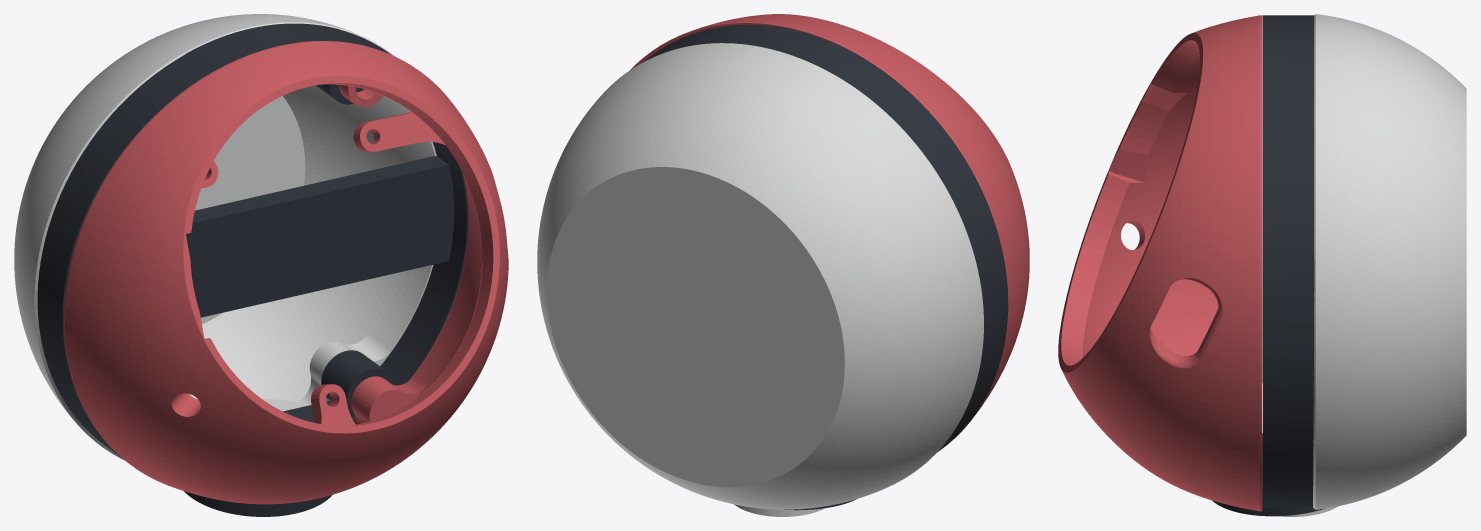
File: poketama-poke.glb
The picture shows the model from 3 angles, left to right: view 1: azimuth 30°, elevation 25°; view 2: azimuth 150°, elevation 25°; view 3: azimuth 270°, elevation 25°; orthographic projection.
Bounding box in the file's own units: 1.94 × 2 × 1.59.
